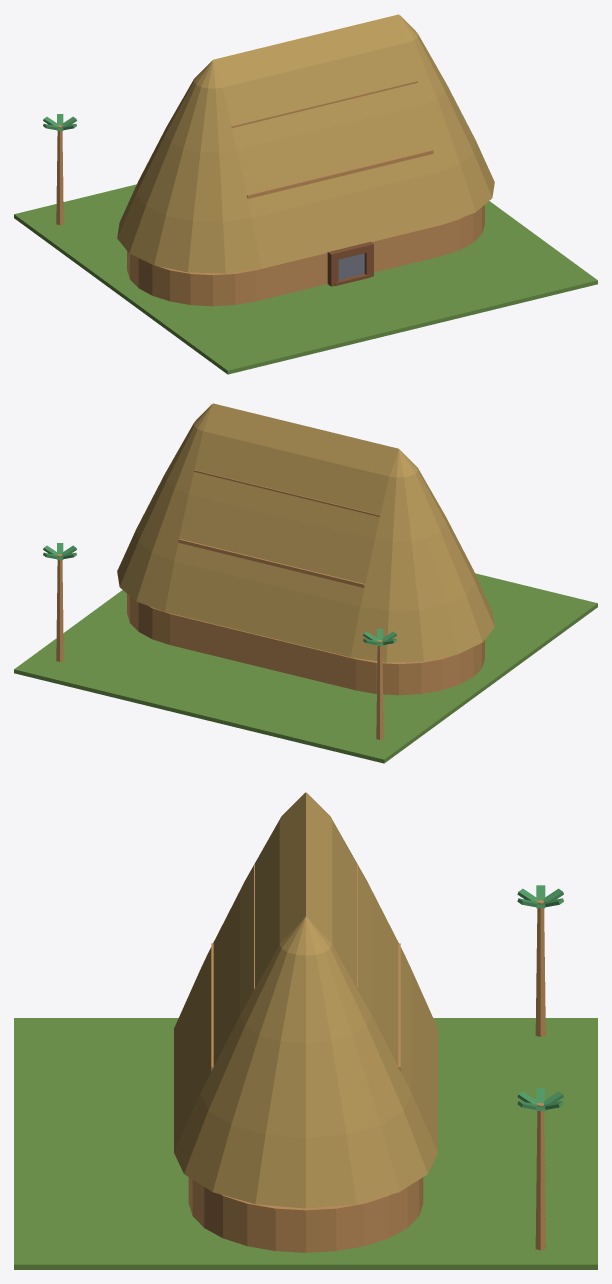
Rendered from house-2x2-2f-maloca-a.glb.
3 views of the same model, one above another, from view 1: azimuth 30°, elevation 25°; view 2: azimuth 150°, elevation 25°; view 3: azimuth 270°, elevation 25° (orthographic). The views are drawn at different scales.
Parts seen in each view (by area): view 1: house-2x2-2f-maloca-a; view 2: house-2x2-2f-maloca-a; view 3: house-2x2-2f-maloca-a.
Part boxes in pixels (x1,y1,x2,y2): house-2x2-2f-maloca-a: (14,14,597,374); house-2x2-2f-maloca-a: (14,403,597,763); house-2x2-2f-maloca-a: (14,792,597,1269).
Bounding box in the file's own units: 1.99 × 1.1 × 1.99.
1 material, 1 textured.
